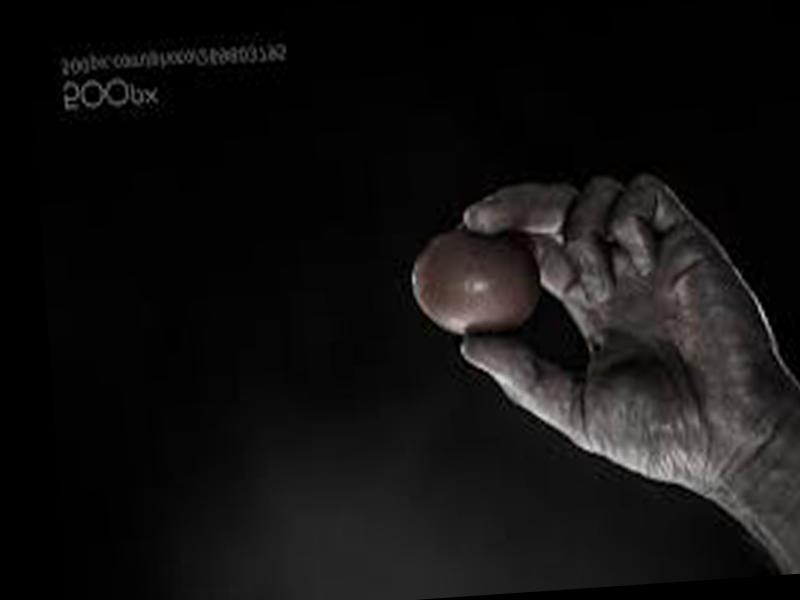Eggs: (409, 226, 547, 342)
